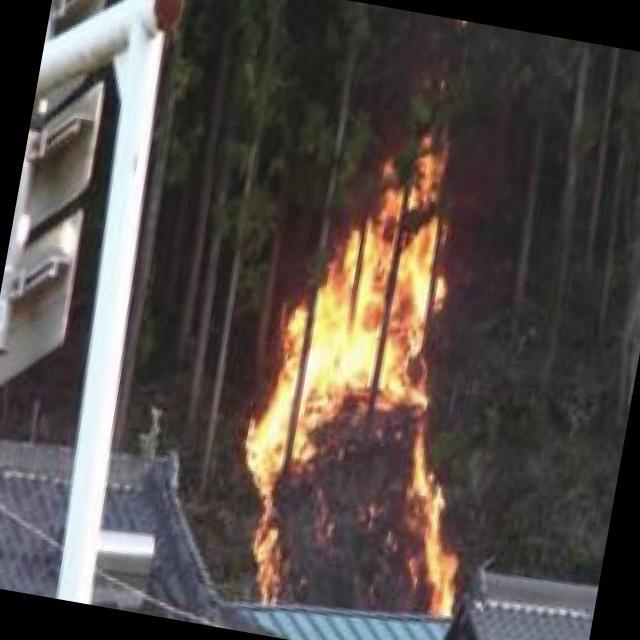Fire: (224, 131, 529, 628)
